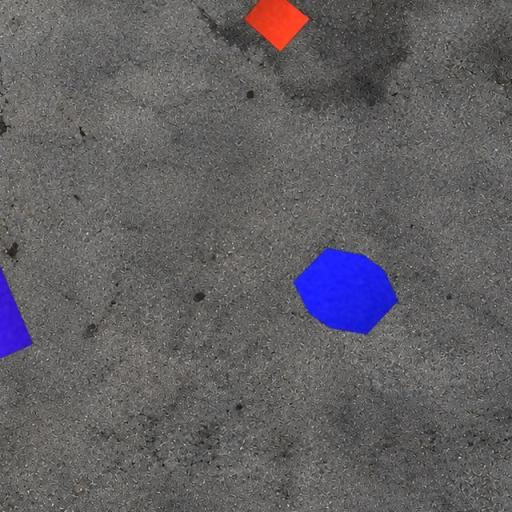RED_SQUARE: (244, 0, 310, 53)
